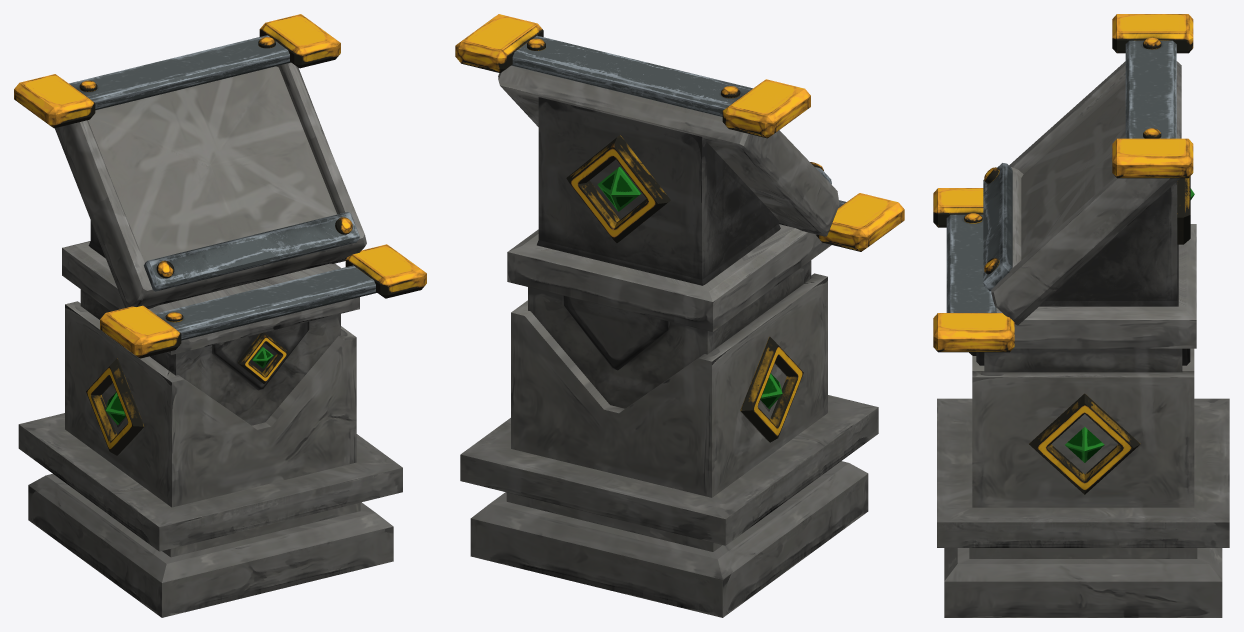
Rendered from Pedestal.fbx.
3 views of the same model, side by side, from view 1: azimuth 30°, elevation 25°; view 2: azimuth 150°, elevation 25°; view 3: azimuth 270°, elevation 25° (orthographic). The views are drawn at different scales.
Visible parts, largest first — view 1: Wizard_Book:Pedestal; view 2: Wizard_Book:Pedestal; view 3: Wizard_Book:Pedestal.
Boxes of the visible parts, left/top/right/bottom form: Wizard_Book:Pedestal: left=14, top=14, right=426, bottom=617; Wizard_Book:Pedestal: left=455, top=14, right=904, bottom=617; Wizard_Book:Pedestal: left=933, top=14, right=1229, bottom=617.
Size of the model in its own units: 153 by 227 by 129.
